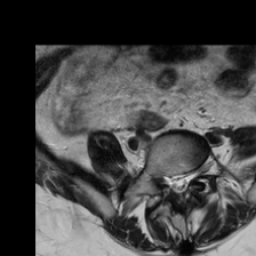CCS_normal: (175, 169, 183, 199)
LFS_stenosis: (191, 163, 198, 185)
LLS_normal: (185, 166, 190, 192)
RFS_normal: (157, 169, 165, 190)
RLS_normal: (166, 169, 174, 196)
